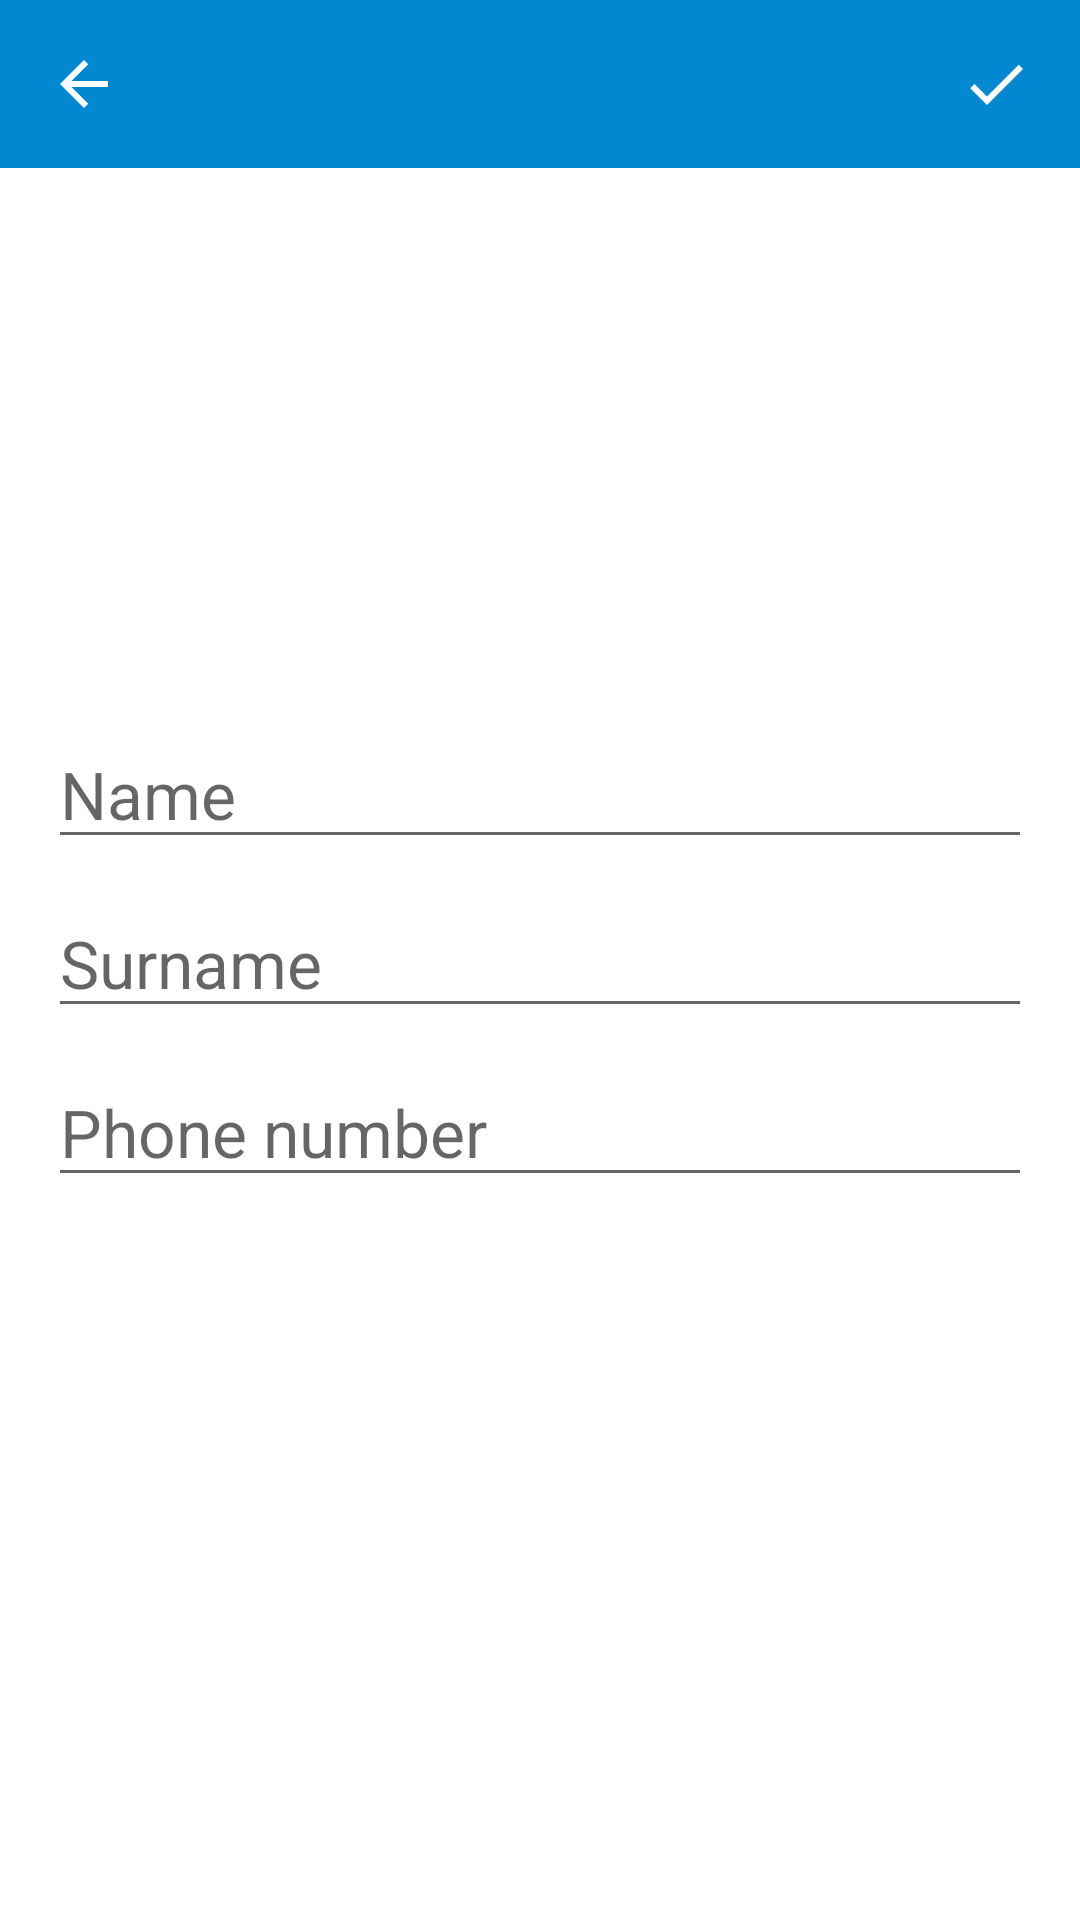

Screen size 1080w x 1920h. Icon name, then its center in pixels as [x,y]:
Back: [84,84]
Done: [996,85]
